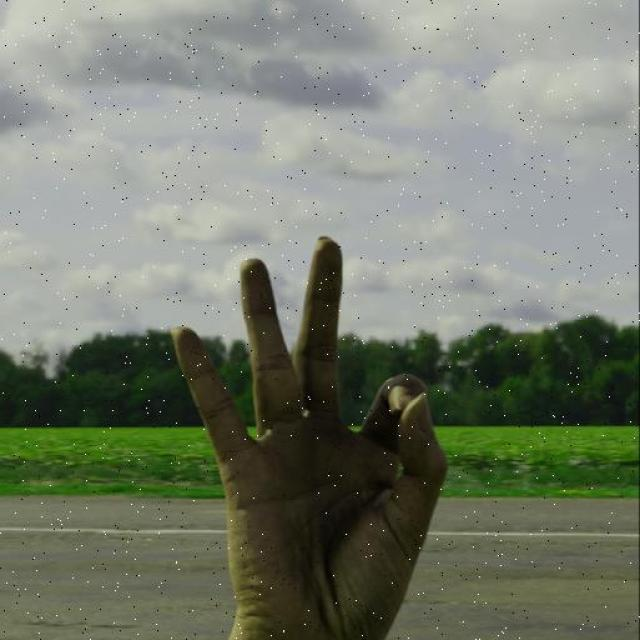F: (170, 232, 453, 634)
